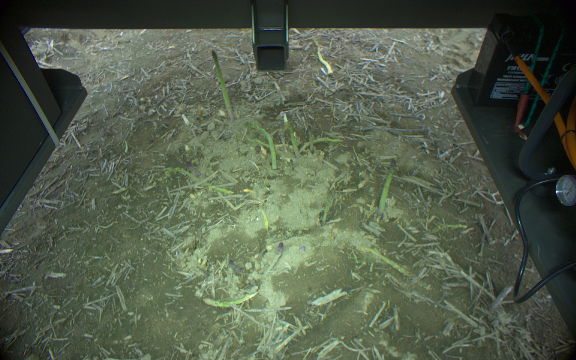aspa: (360, 244, 430, 289), (165, 164, 234, 194), (210, 48, 235, 124), (372, 159, 400, 220), (244, 121, 278, 169), (201, 288, 260, 309), (260, 240, 283, 277), (320, 188, 337, 225), (284, 122, 301, 158), (314, 43, 332, 77), (304, 124, 315, 154)
